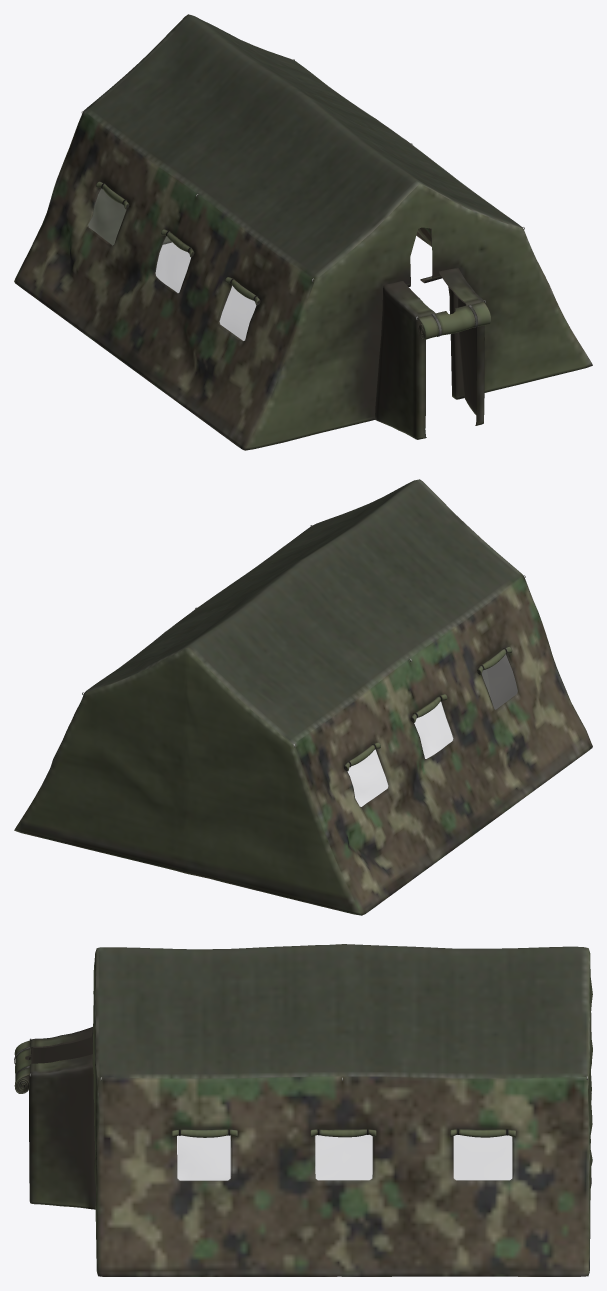
The model's file is tent_military.273117d9db.glb.
3 renders of one model, top to bottom at view 1: azimuth 30°, elevation 25°; view 2: azimuth 150°, elevation 25°; view 3: azimuth 270°, elevation 25°, orthographic. The views are drawn at different scales.
Visible parts, largest first — view 1: tent_military_0, tent_military_1; view 2: tent_military_0, tent_military_1; view 3: tent_military_0, tent_military_1.
Part boxes in pixels (left/top/right/bottom): tent_military_0: left=14, top=14, right=592, bottom=450; tent_military_1: left=88, top=188, right=255, bottom=340; tent_military_0: left=14, top=479, right=592, bottom=915; tent_military_1: left=348, top=654, right=517, bottom=806; tent_military_0: left=14, top=944, right=592, bottom=1276; tent_military_1: left=177, top=1135, right=512, bottom=1180.
Size of the model in its own units: 6.28 by 3.92 by 8.46.
Materials: 2 (1 with a texture image).
